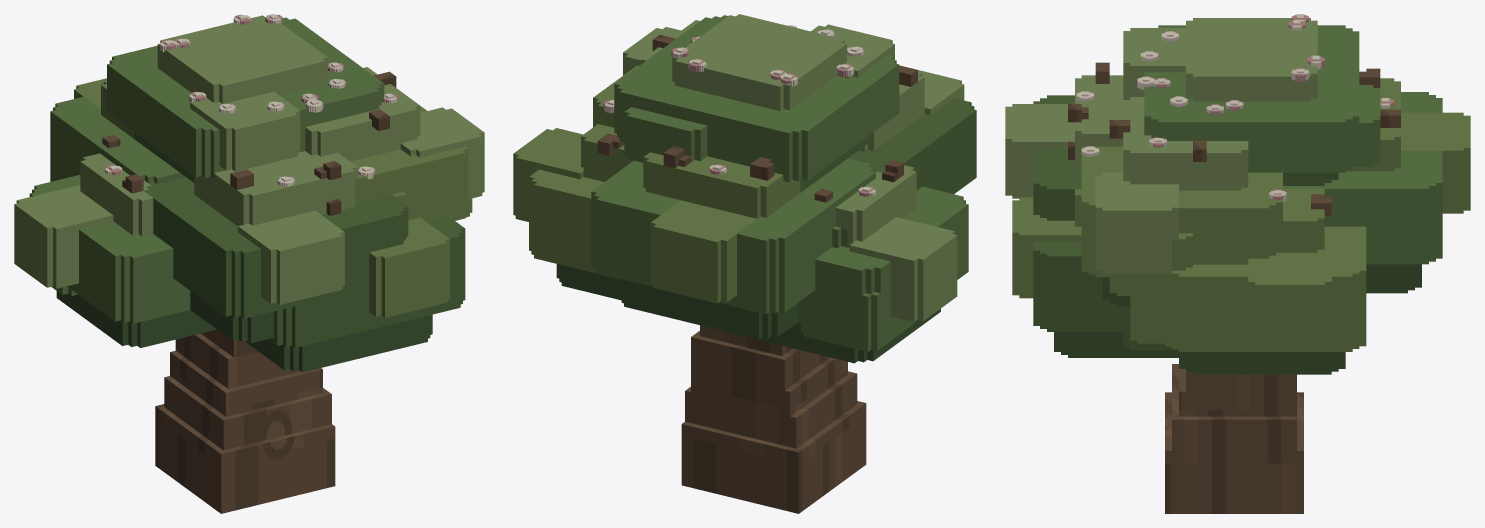
The model's file is apple_ancient_spring_3.glb.
3 views of the same model, side by side, from view 1: azimuth 30°, elevation 25°; view 2: azimuth 150°, elevation 25°; view 3: azimuth 270°, elevation 25° (orthographic). The views are drawn at different scales.
Visible parts, largest first — view 1: VoxelVisual; view 2: VoxelVisual; view 3: VoxelVisual.
Boxes of the visible parts, <box> form: VoxelVisual: <box>14,14,484,513</box>; VoxelVisual: <box>513,14,976,513</box>; VoxelVisual: <box>1005,14,1470,513</box>.
Size of what is drawn, in the model's own units: 17.5 by 17.69 by 16.75.
